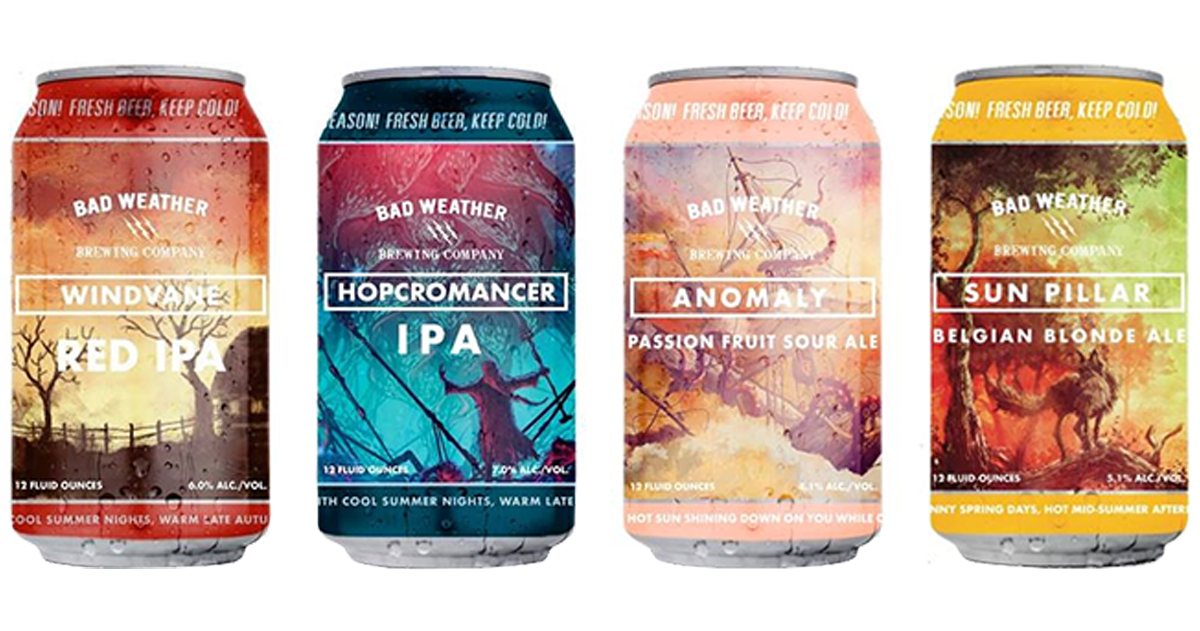beer can: (315, 67, 574, 574), (624, 67, 885, 570), (929, 69, 1190, 570), (10, 65, 269, 565)
